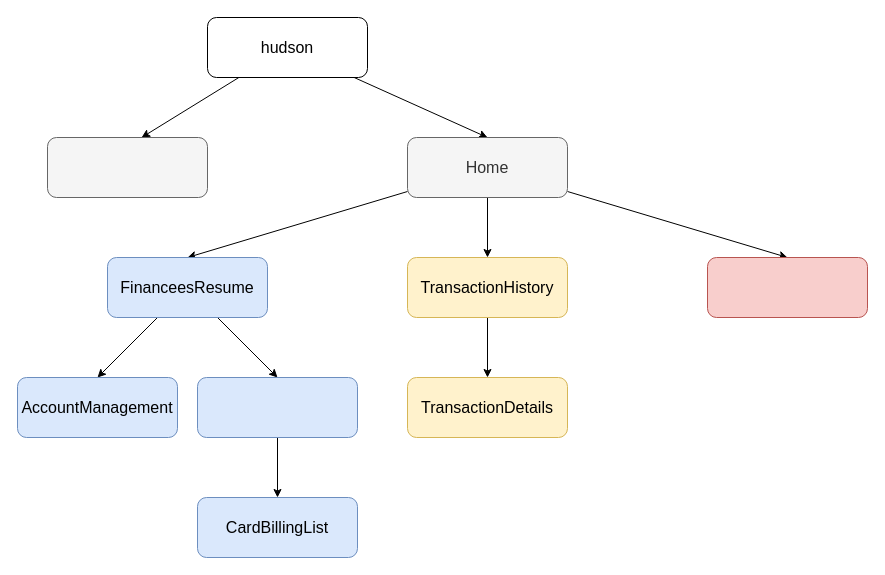
The diagram is 885 pixels wide and 575 high, and some of its shapes have lost their labels. The shapes that lost their labels are listed below. From the top down, each one's centre as x and y in pixels, then its label:
point (127, 167): ApplicationLogin
point (787, 287): TransactionRegistry
point (277, 407): CardManagement
